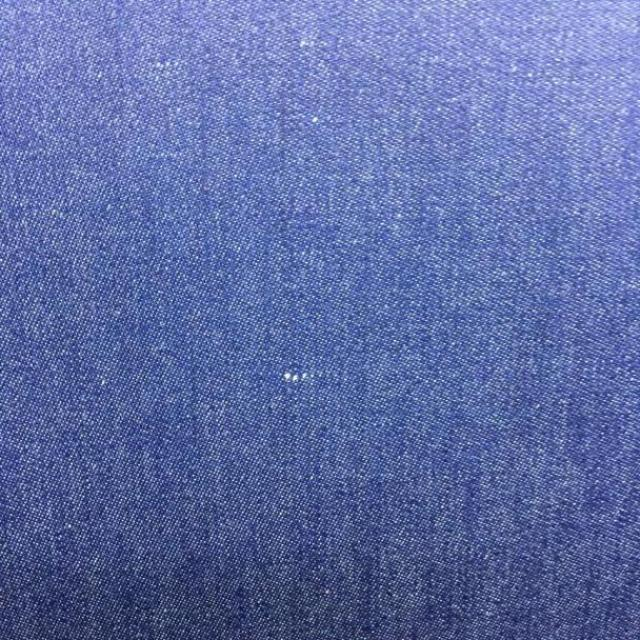Knot: (282, 374, 322, 384)
